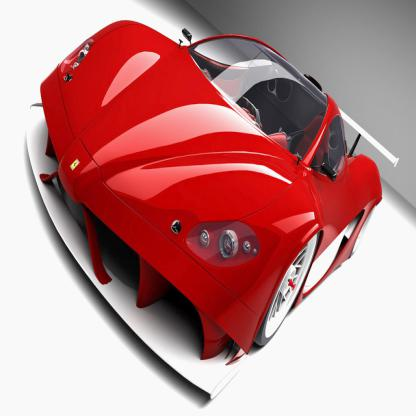Car: (26, 20, 399, 398)
